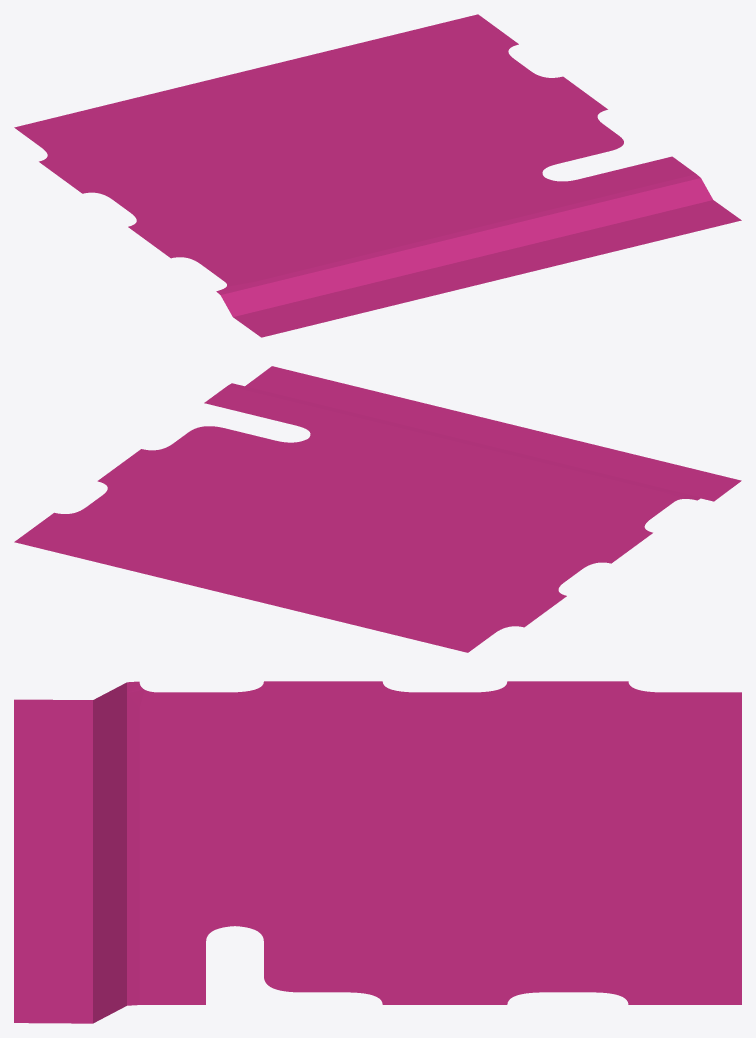
The model's file is standnavmap.glb.
3 renders of one model, top to bottom at view 1: azimuth 30°, elevation 25°; view 2: azimuth 150°, elevation 25°; view 3: azimuth 270°, elevation 25°, orthographic. The views are drawn at different scales.
Parts seen in each view (by area): view 1: Line001; view 2: Line001; view 3: Line001.
Part boxes in pixels (x1,y1,x2,y2): Line001: (14,14,741,337); Line001: (14,366,741,652); Line001: (14,681,741,1023).
Bounding box in the file's own units: 11.98 × 0.3218 × 11.39.
